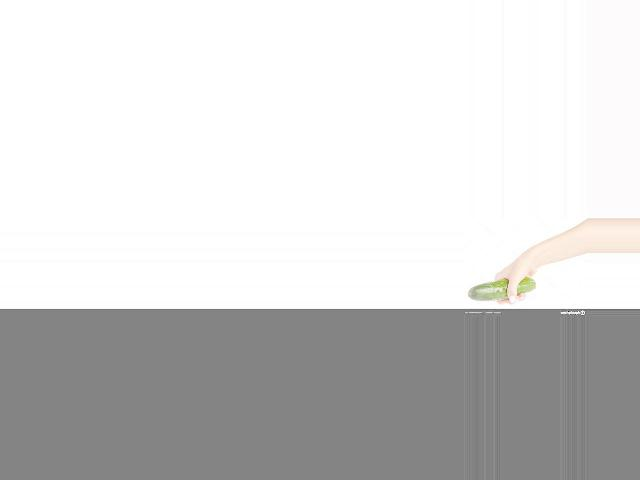cucumber: (467, 277, 534, 301)
